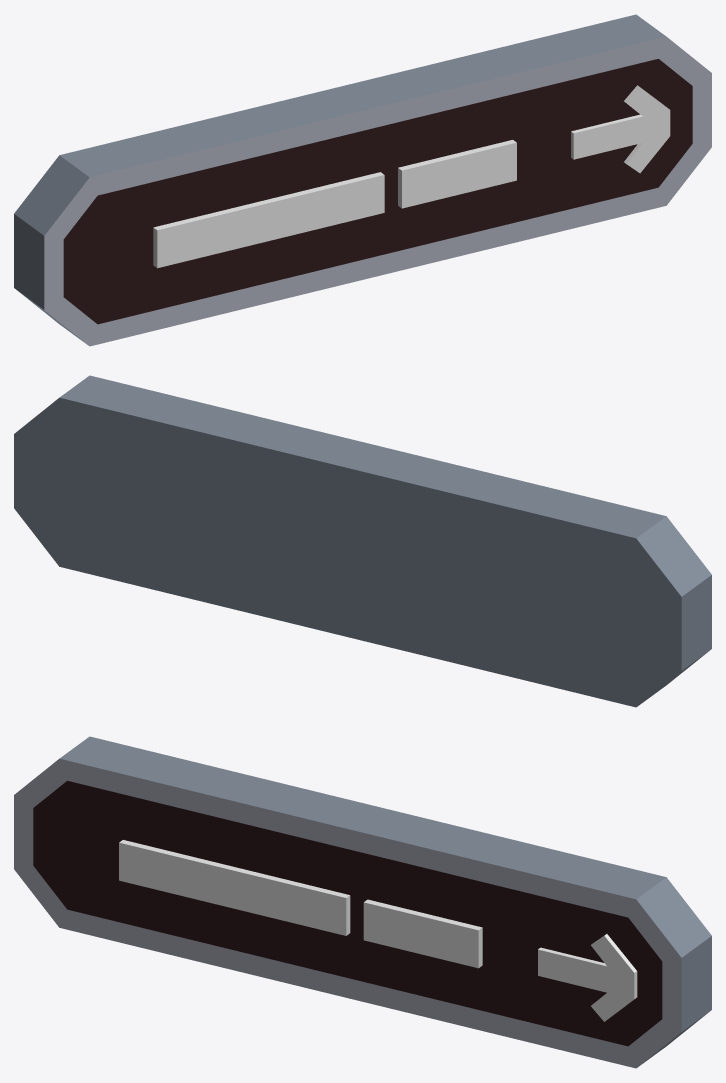
Rendered from TB_CITY_Prop_Sign_Part_B.FBX.
3 views of the same model, one above another, from view 1: azimuth 30°, elevation 25°; view 2: azimuth 150°, elevation 25°; view 3: azimuth 330°, elevation 25° (orthographic).
Parts seen in each view (by area): view 1: TB_CITY_Prop_Sign_Part_B; view 2: TB_CITY_Prop_Sign_Part_B; view 3: TB_CITY_Prop_Sign_Part_B.
Boxes of the visible parts, <box> form: TB_CITY_Prop_Sign_Part_B: <box>14,14,711,346</box>; TB_CITY_Prop_Sign_Part_B: <box>14,375,711,707</box>; TB_CITY_Prop_Sign_Part_B: <box>14,736,711,1068</box>.
Bounding box in the file's own units: 2.22 × 0.5371 × 0.1974.
